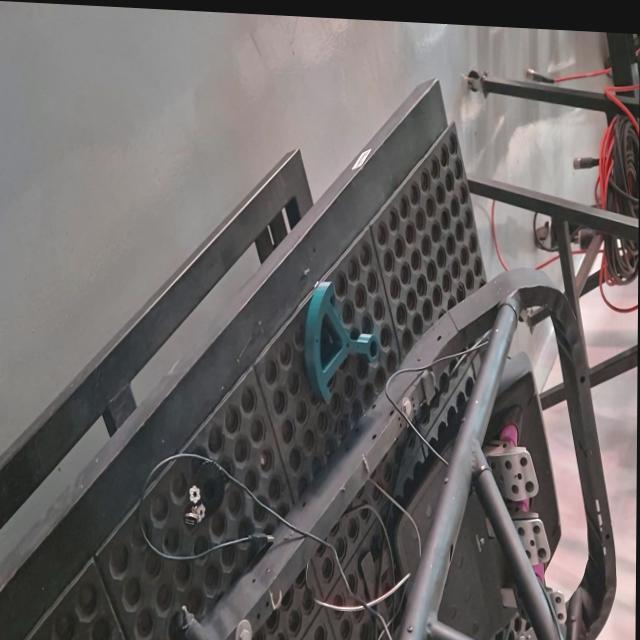haptic: (303, 277, 380, 408)
